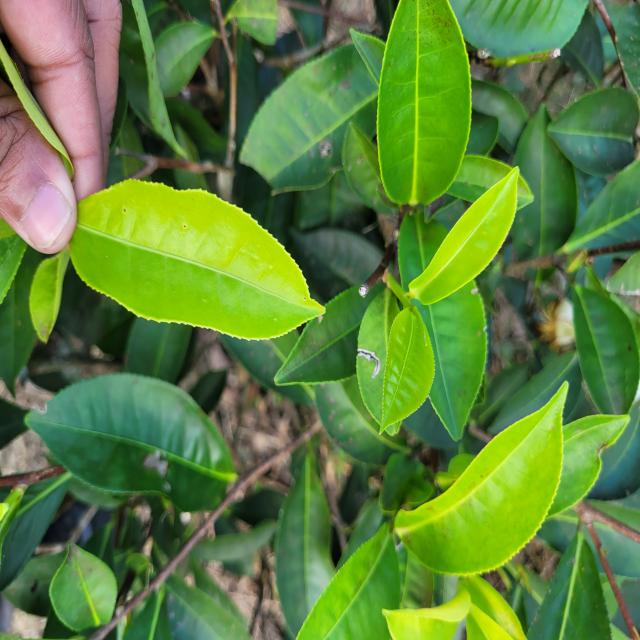Category B(2-4 days): (53, 145, 340, 355)
